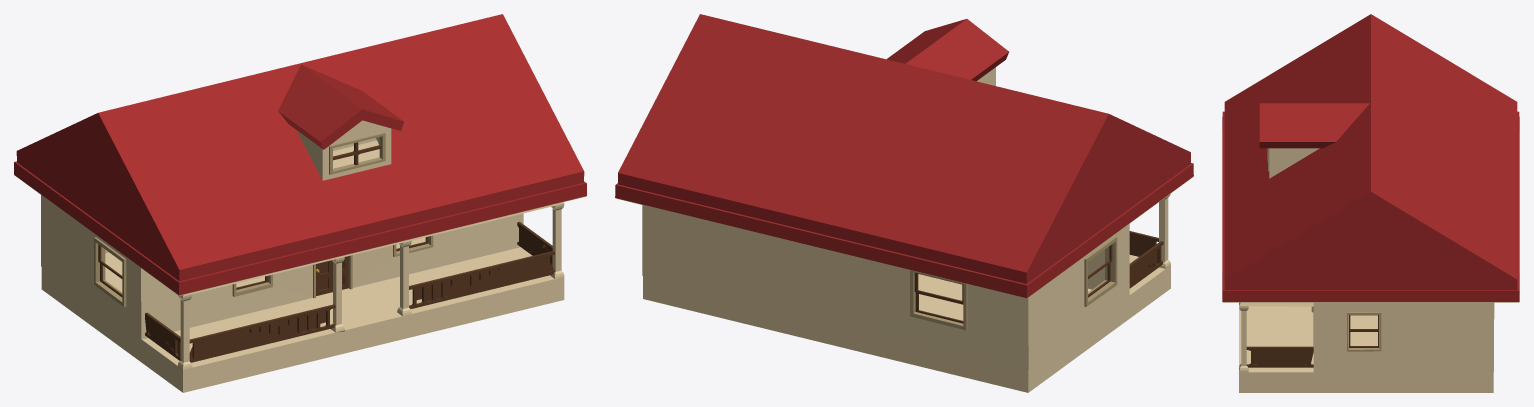
The model's file is House v1.1.fbx.
3 views of the same model, side by side, from view 1: azimuth 30°, elevation 25°; view 2: azimuth 150°, elevation 25°; view 3: azimuth 270°, elevation 25° (orthographic). The views are drawn at different scales.
Visible parts, largest first — view 1: Roof, House, Floor, Fences, Window10.001, Door; view 2: Roof, House, Floor, Fences; view 3: Roof, House, Floor, Fences.
Part boxes in pixels (x1,y1,x2,y2): Roof: [14, 14, 586, 295]; House: [14, 120, 586, 369]; Floor: [41, 237, 564, 392]; Fences: [145, 221, 554, 362]; Window10.001: [329, 132, 385, 174]; Door: [316, 256, 348, 295]; Roof: [615, 14, 1193, 298]; House: [615, 67, 1192, 369]; Floor: [643, 255, 1170, 392]; Fences: [1129, 231, 1163, 288]; Roof: [1222, 14, 1519, 301]; House: [1222, 148, 1519, 372]; Floor: [1239, 305, 1493, 392]; Fences: [1246, 346, 1313, 367].
Size of the model in its own units: 1190 by 640 by 836.
